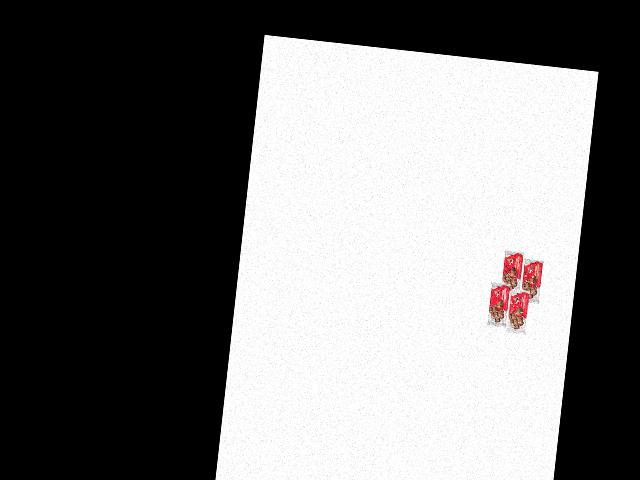chocolate: (515, 254, 546, 307)
